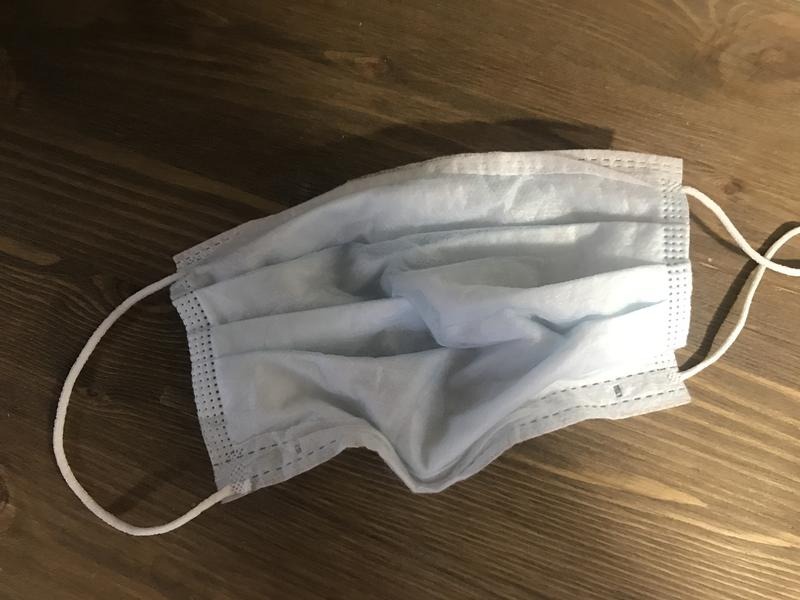medical_mask: (56, 148, 798, 540)
